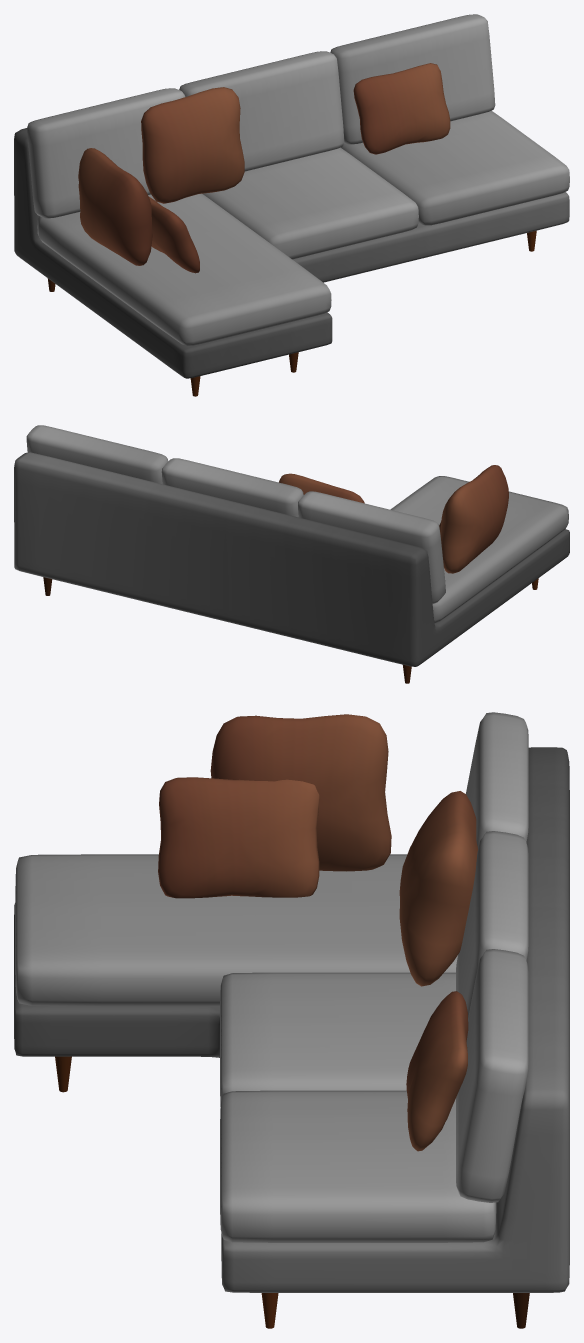
Rendered from sillon2.fbx.
3 views of the same model, one above another, from view 1: azimuth 30°, elevation 25°; view 2: azimuth 150°, elevation 25°; view 3: azimuth 270°, elevation 25° (orthographic). The views are drawn at different scales.
Visible parts, largest first — view 1: polySurface57; view 2: polySurface57; view 3: polySurface57.
Part boxes in pixels (x1=…): polySurface57: x1=14, y1=14, x2=569, y2=396; polySurface57: x1=14, y1=425, x2=569, y2=683; polySurface57: x1=14, y1=712, x2=569, y2=1328.
Size of the model in its own units: 5 by 1.91 by 3.3.
1 material, 1 textured.
